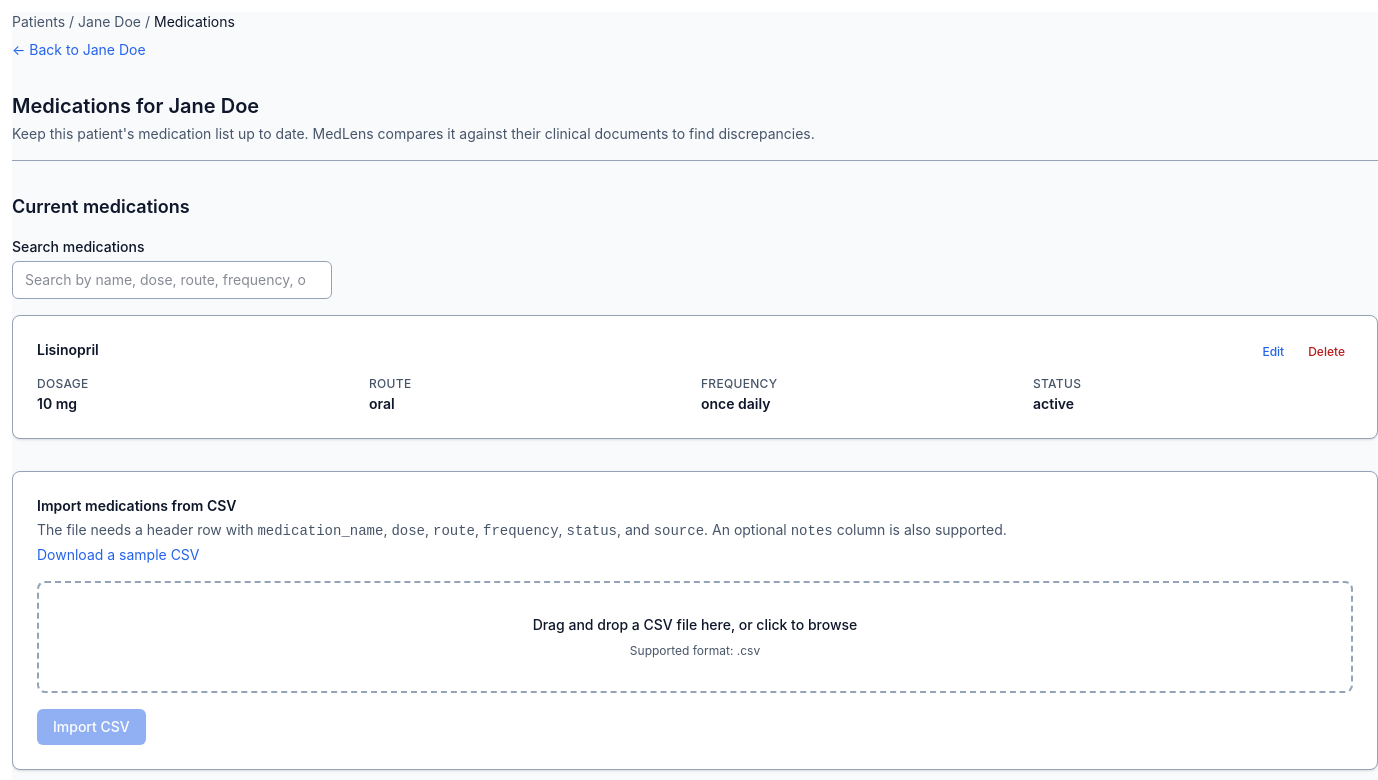
PatientMedicationsPage › deletes a medication and removes it from the list
This screenshot has width=1378, height=780.
Check: the heading "Lisinopril" is shown, box top-left (37, 340), bottom-right (99, 360)
Click the button with aria-label "Delete Lisinopril": (1327,352) top-left (1300, 340), bottom-right (1353, 364)
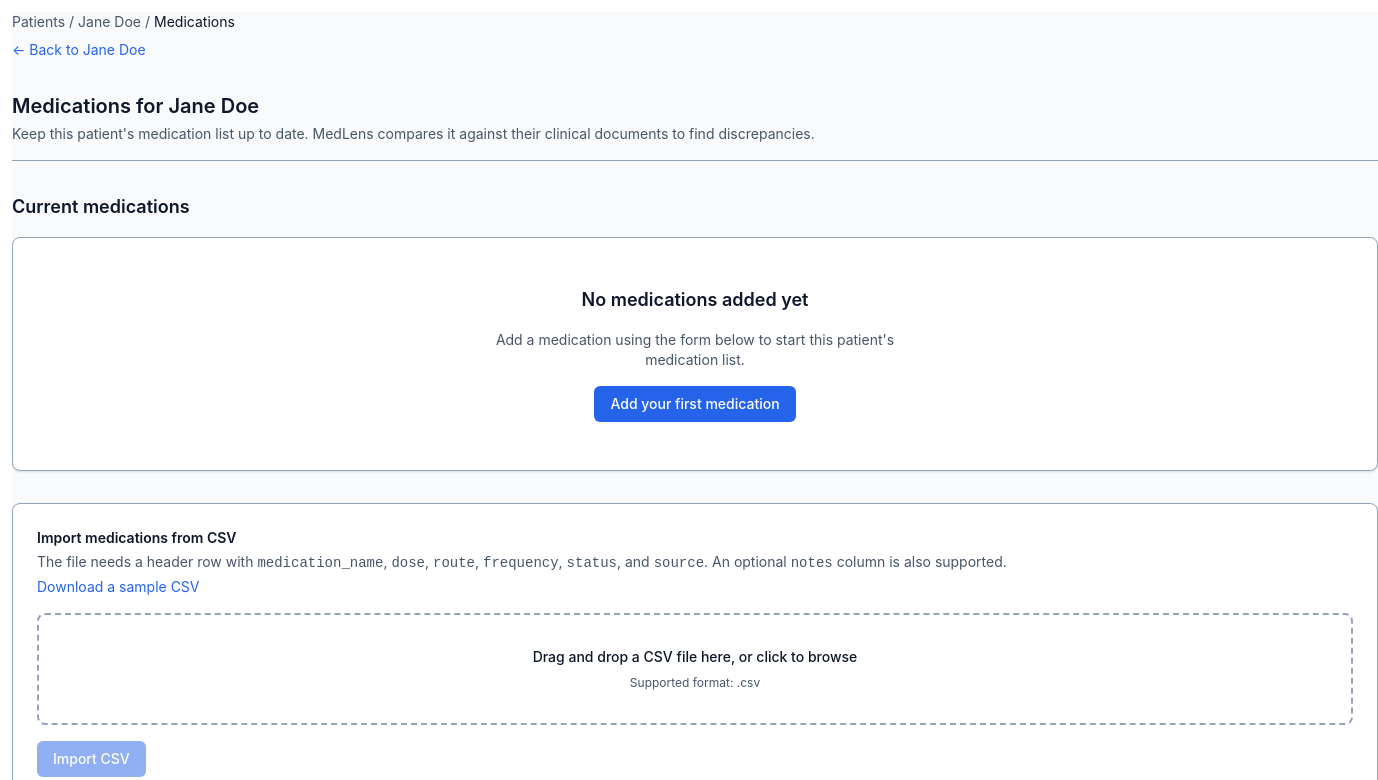
Check: the heading "Lisinopril" is gone
